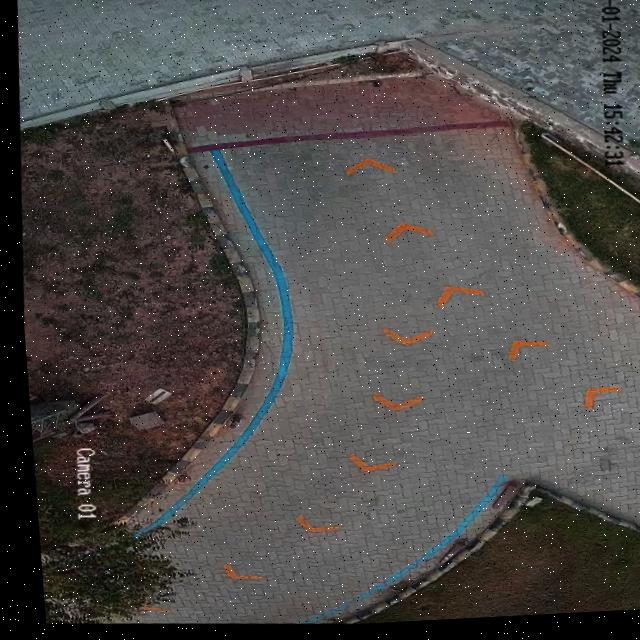No Car: (16, 0, 640, 627)
